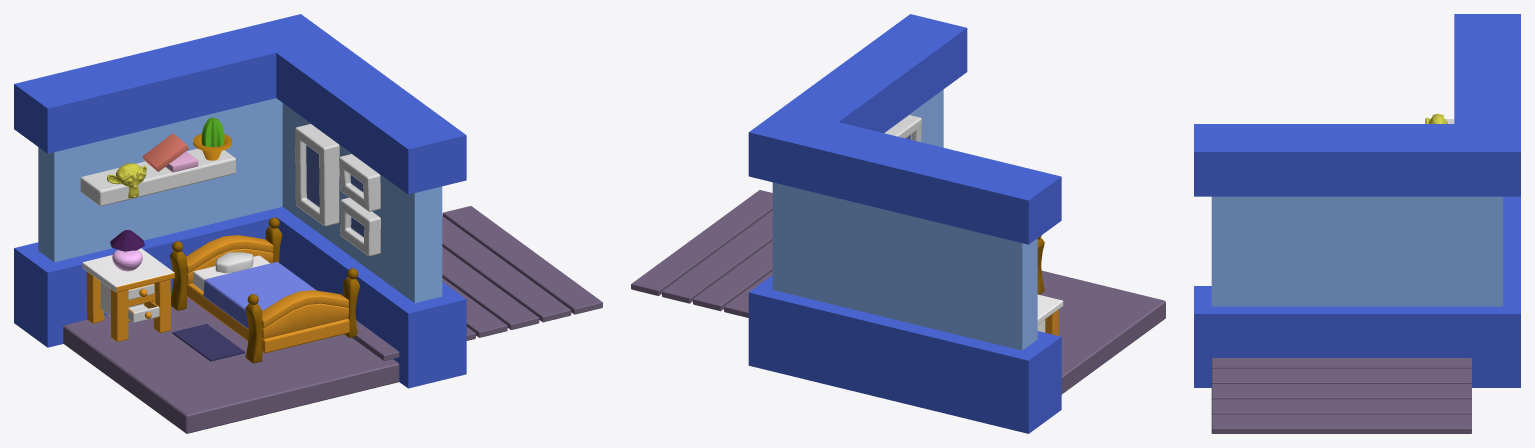
File: room.glb
3 renders of one model, left to right at view 1: azimuth 30°, elevation 25°; view 2: azimuth 150°, elevation 25°; view 3: azimuth 270°, elevation 25°, orthographic. The views are drawn at different scales.
Parts seen in each view (by area): view 1: Cube, Plane, Plane.001, Cube.001, Plane.011, Plane.009, Cube.002, Plane.003, Plane.002, Plane.004, Plane.012, Plane.005 (+5 smaller); view 2: Cube, Plane.001, Plane, Plane.011, Cube.001; view 3: Cube, Plane.001.
Part boxes in pixels (left/top/right/bottom): Cube: left=14, top=14, right=466, bottom=388; Plane: left=63, top=297, right=399, bottom=433; Plane.001: left=352, top=206, right=602, bottom=360; Cube.001: left=295, top=124, right=380, bottom=256; Plane.011: left=82, top=230, right=174, bottom=341; Plane.009: left=193, top=255, right=316, bottom=329; Cube.002: left=80, top=148, right=235, bottom=206; Plane.003: left=262, top=290, right=348, bottom=338; Plane.002: left=187, top=283, right=349, bottom=353; Plane.004: left=186, top=235, right=273, bottom=283; Plane.012: left=172, top=324, right=244, bottom=361; Plane.005: left=245, top=294, right=262, bottom=363; Cube: left=748, top=14, right=1061, bottom=433; Plane.001: left=631, top=190, right=772, bottom=317; Plane: left=1040, top=270, right=1165, bottom=394; Plane.011: left=1037, top=294, right=1063, bottom=335; Cube.001: left=885, top=115, right=921, bottom=141; Cube: left=1194, top=14, right=1520, bottom=387; Plane.001: left=1211, top=358, right=1471, bottom=433.
Size of what is drawn, in the model's own units: 3.79 by 2.01 by 2.51.
